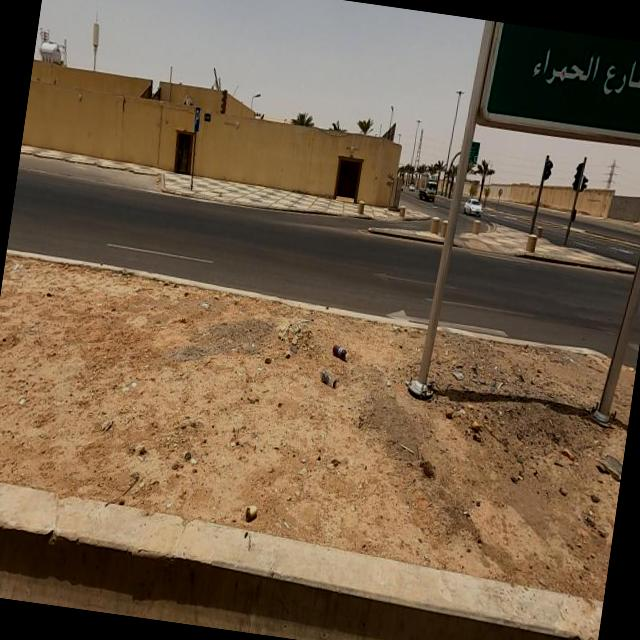debris: (278, 291, 397, 455), (407, 371, 515, 468), (204, 456, 294, 564)
